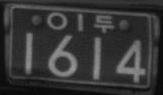0: (46, 11, 68, 30)
1: (16, 31, 41, 75), (84, 37, 109, 80), (70, 13, 90, 32)
4: (116, 38, 146, 83)
6: (47, 34, 78, 78)
두: (93, 13, 114, 33)
